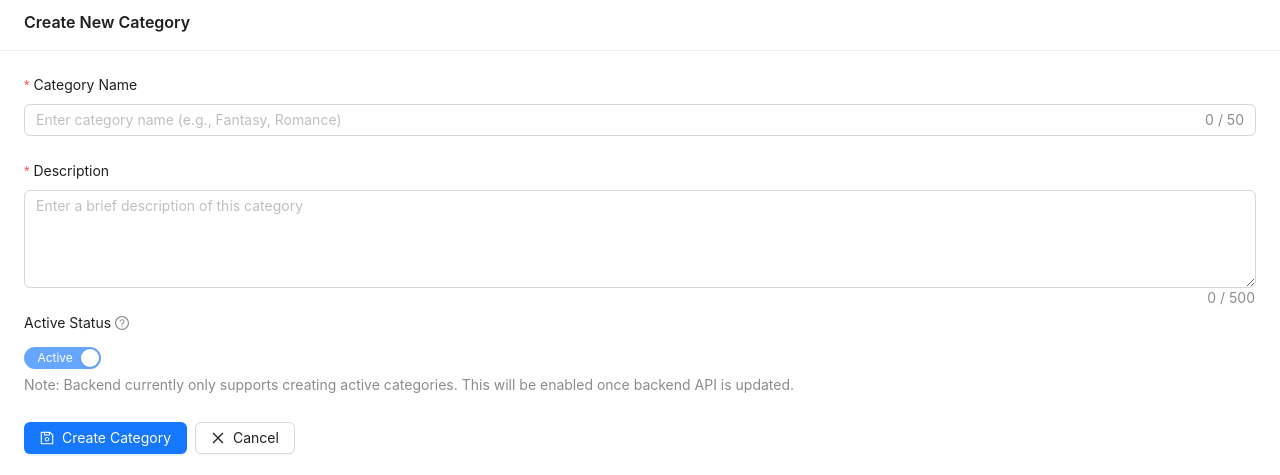
Scenario: CategoryForm (enhanced) › Create Mode › shows validation messages for empty and too short fields
// Submit empty
Click the button "Create Category".
click(106, 438)  # box [24,422,187,454]
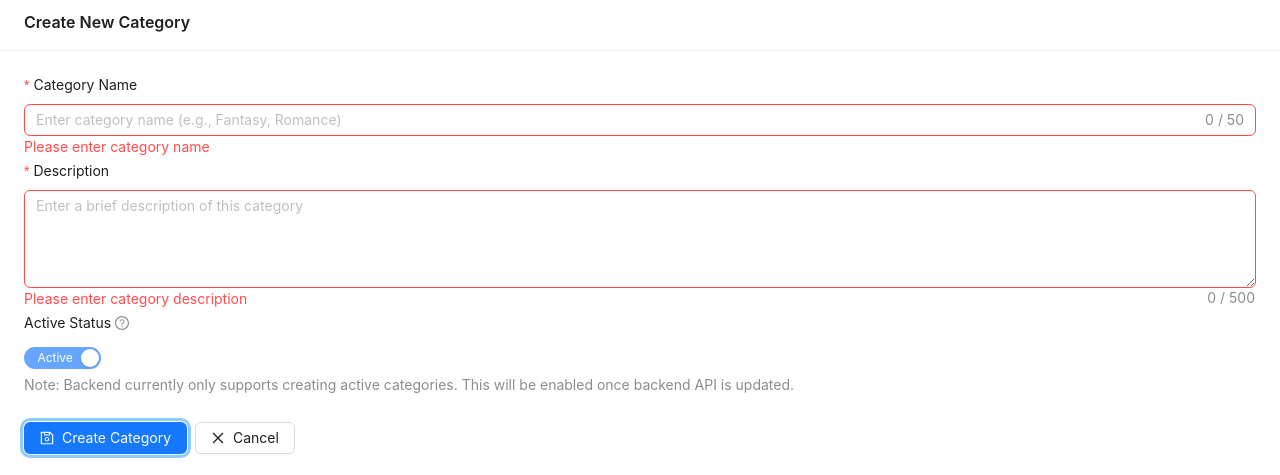
Expected: the text "Please enter category name" is shown, [24,138,210,155]
Expected: the text "Please enter category description" is shown, [24,290,247,307]
// Too short
Type "A" into the field with placeholder "Enter category name (e.g., Fantasy, Romance)".
click(619, 120); type("A")  # box [36,109,1201,131]
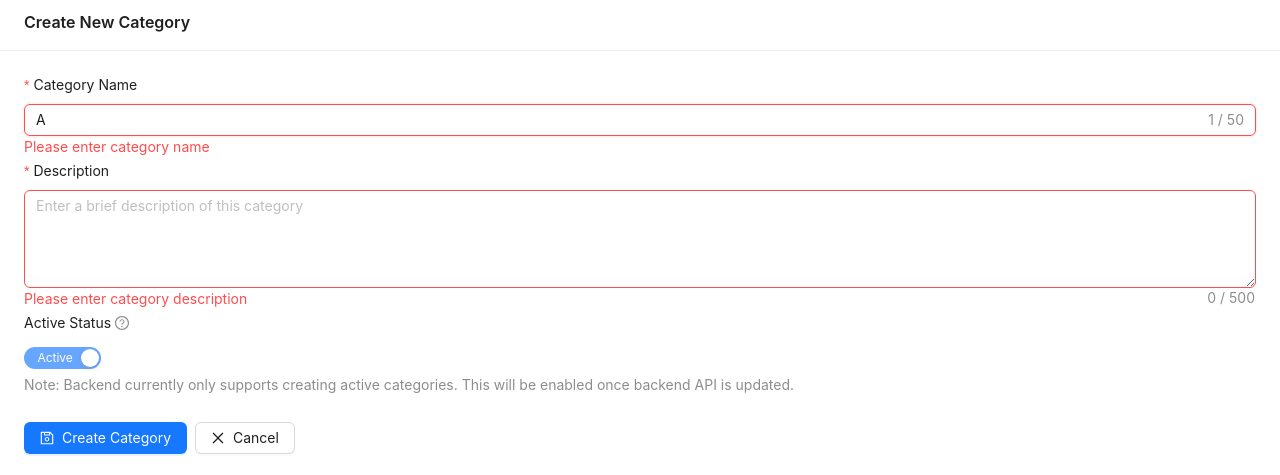
Type "Short" into the text box with placeholder "Enter a brief description of this category".
click(640, 239); type("Short")  # box [25,191,1255,287]
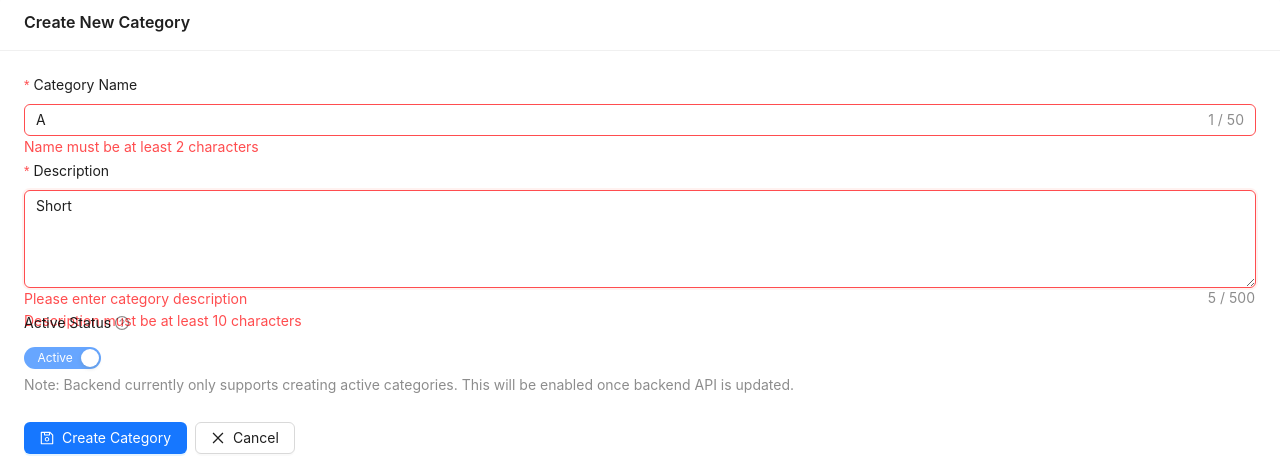
Click the button "Create Category".
click(106, 438)  # box [24,422,187,454]
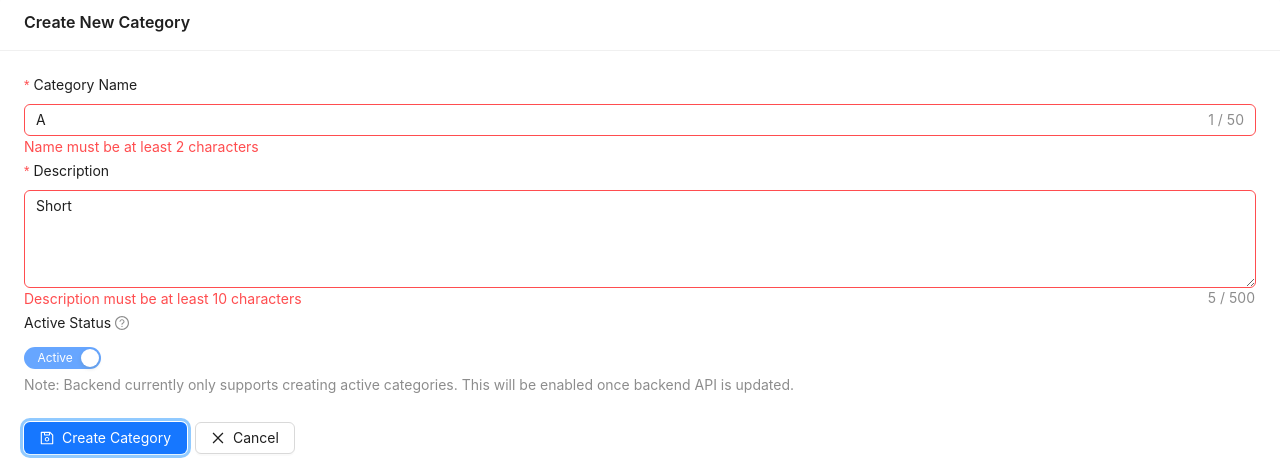
Result: the text "Name must be at least 2 characters" is shown at [24,138,259,155]
Result: the text "Description must be at least 10 characters" is shown at [24,290,302,307]
